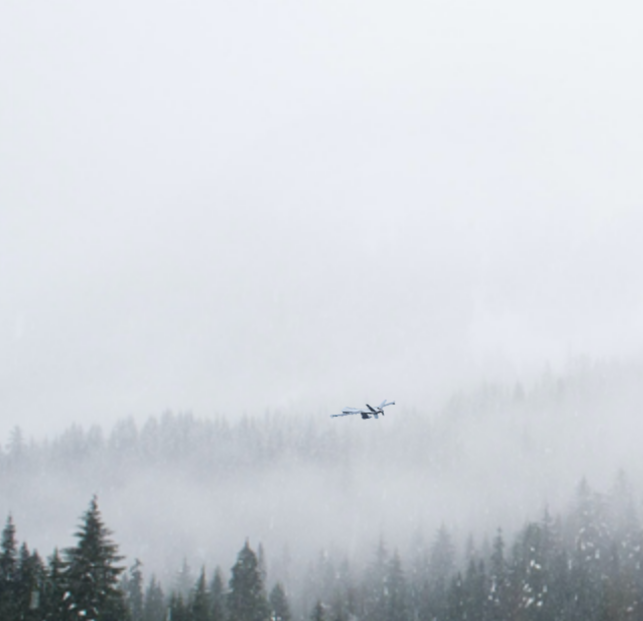military drone: (330, 398, 395, 419)
